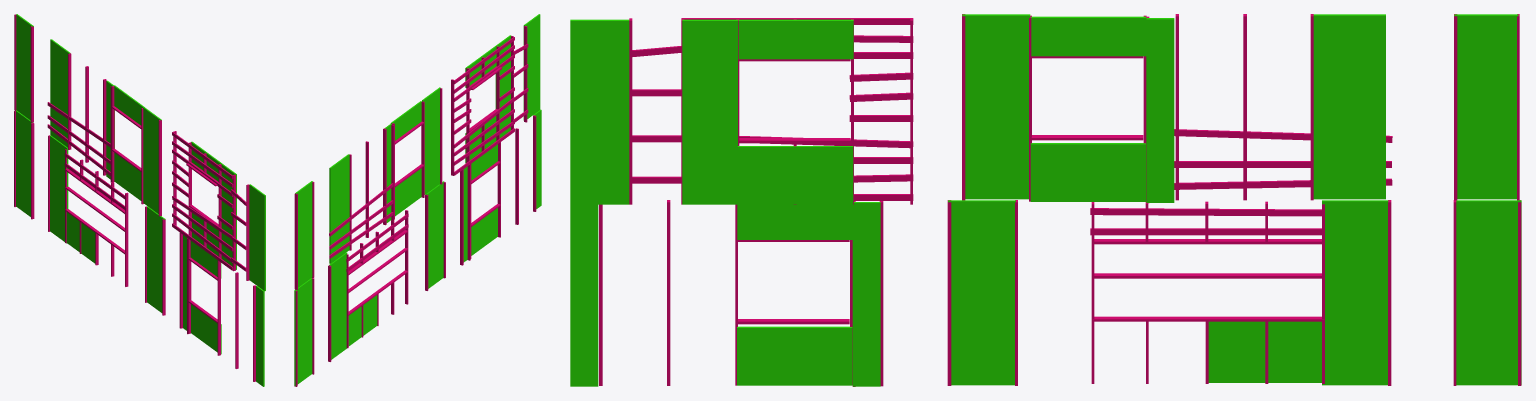
The model's file is H07C_Wall_02_Break_B.fbx.
3 views of the same model, side by side, from view 1: azimuth 30°, elevation 25°; view 2: azimuth 150°, elevation 25°; view 3: azimuth 270°, elevation 25° (orthographic). The views are drawn at different scales.
Visible parts, largest first — view 1: H07C_Wall_02_Break_B; view 2: H07C_Wall_02_Break_B; view 3: H07C_Wall_02_Break_B.
Part boxes in pixels (x1,y1,x2,y2): H07C_Wall_02_Break_B: [14, 14, 265, 386]; H07C_Wall_02_Break_B: [294, 14, 541, 386]; H07C_Wall_02_Break_B: [570, 14, 1521, 386].
Size of the model in its own units: 23.01 by 606 by 1408.
